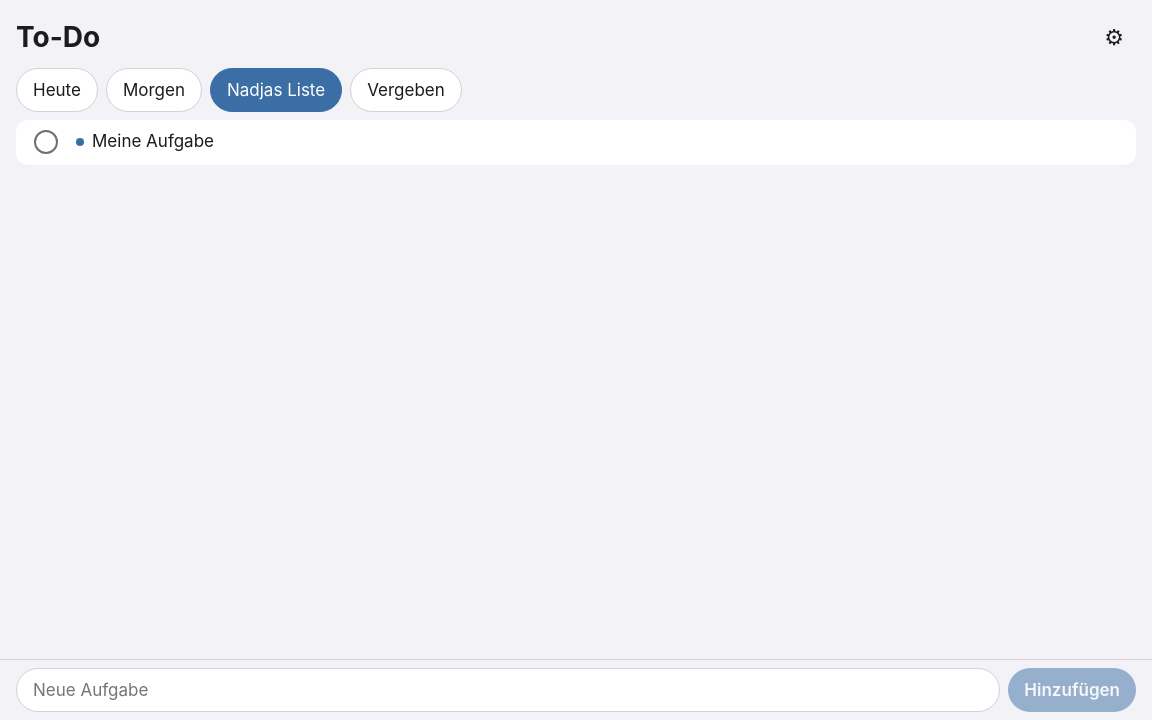
Test case: App with two people › collapses finished hand-overs and drops them after a week
Click the tab "Vergeben" at {"x": 406, "y": 90}, box [350,68,462,112]
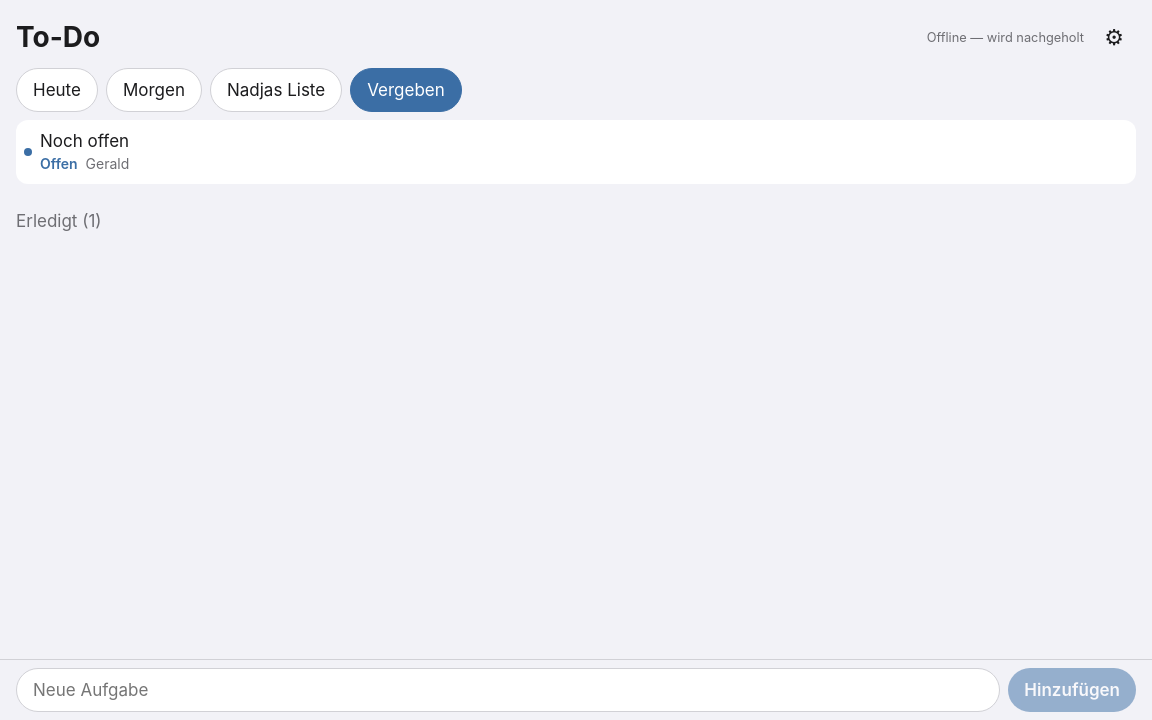
Expected: the text "Noch offen" is shown, [40,130,129,153]
